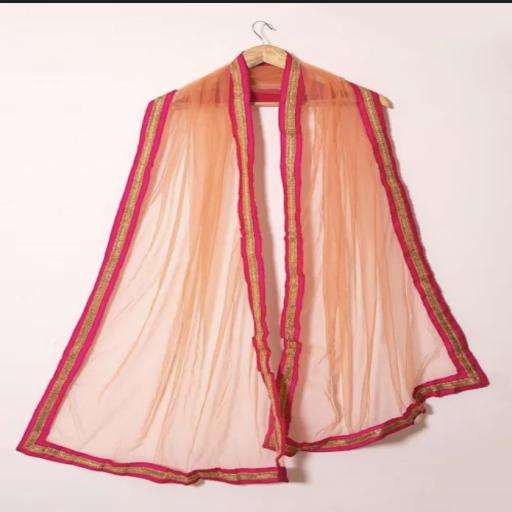dupatta: (7, 31, 497, 499)
